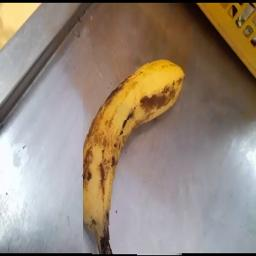Banana Semirotten: (83, 36, 196, 256)
